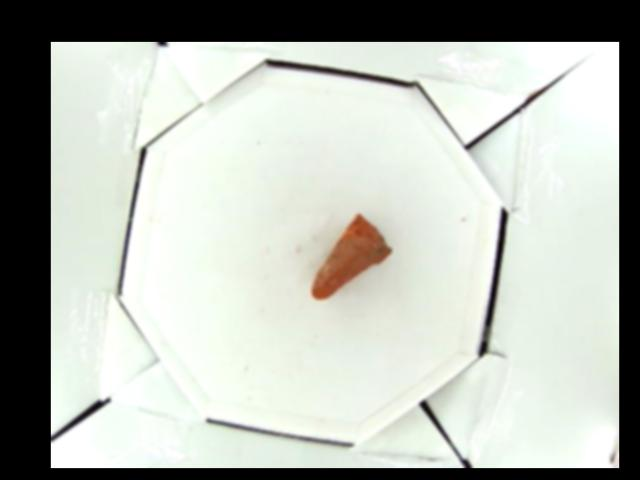Brisk: (311, 213, 392, 301)
